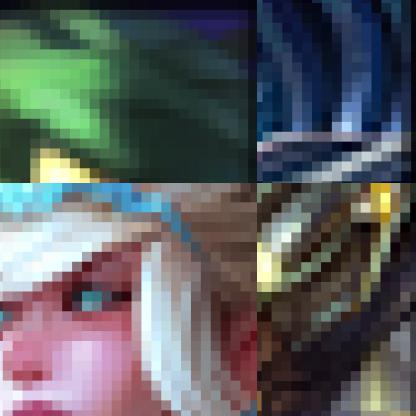Amumu: (0, 0, 256, 182)
Janna: (0, 183, 256, 415)
Lissandra: (257, 0, 415, 182)
Master Yi: (257, 183, 415, 415)
